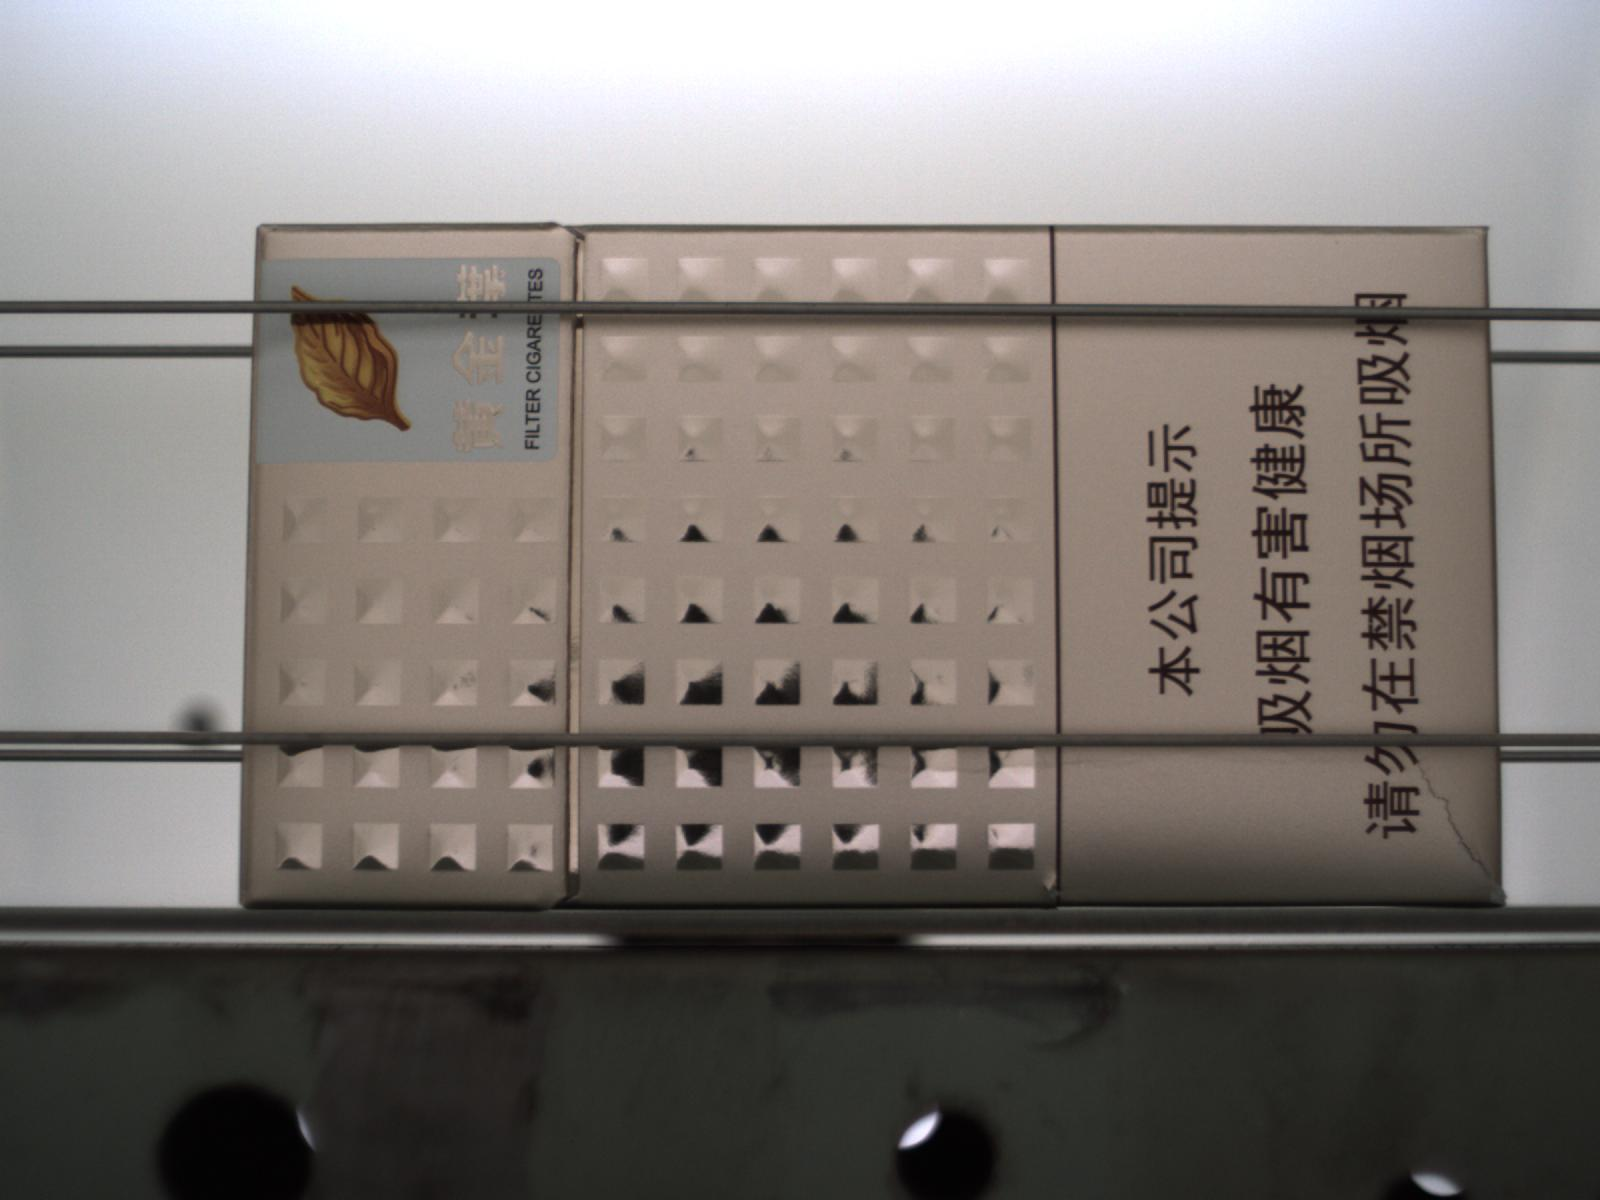skewed_upper_0: (1426, 800, 1507, 905)
